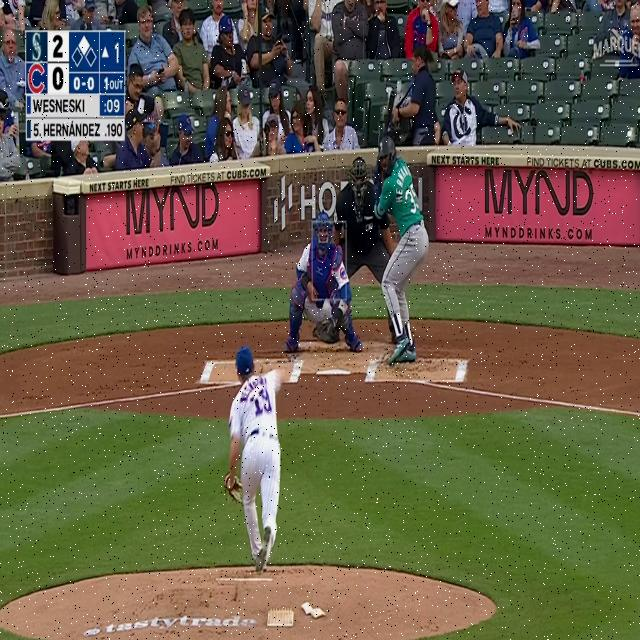baseball: (322, 299, 330, 312)
